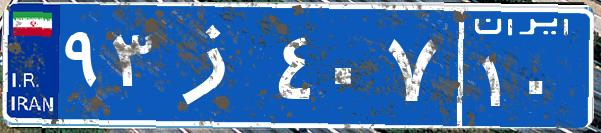0: (330, 28, 385, 110), (525, 38, 570, 115)
1: (475, 38, 525, 113)
3: (110, 28, 158, 105)
4: (273, 28, 330, 110)
7: (385, 28, 445, 110)
9: (57, 26, 110, 107)
ز: (158, 15, 273, 115)
